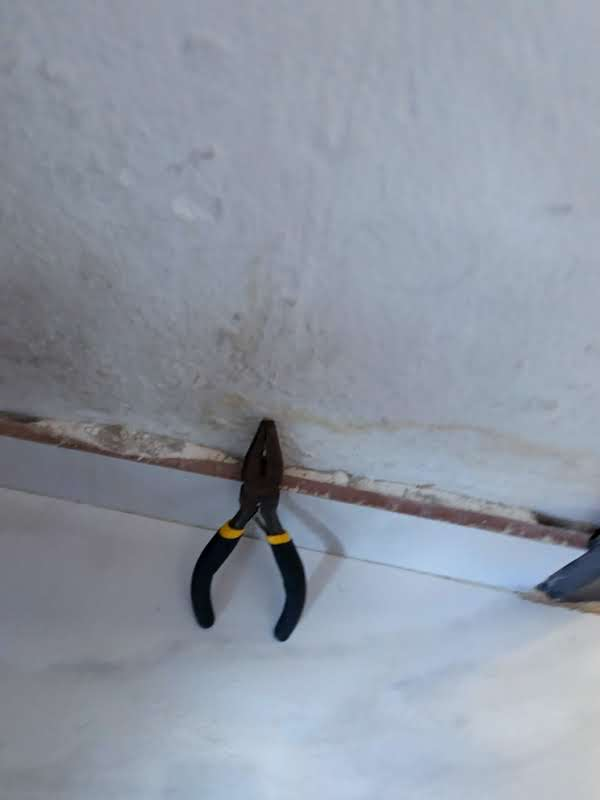Pinzas: (191, 415, 306, 640)
